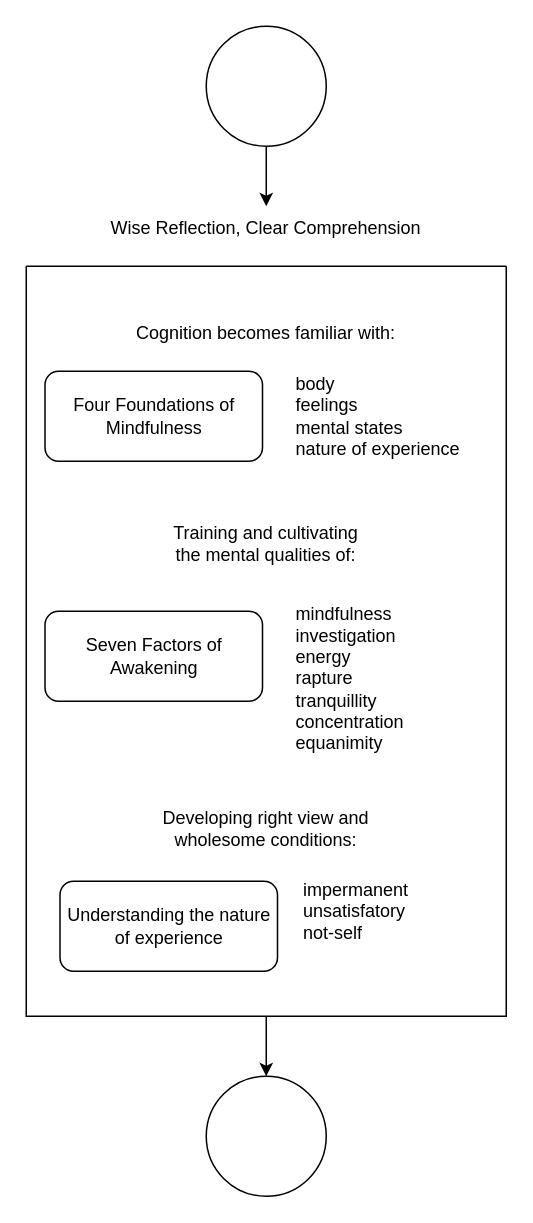
The diagram is 533 pixels wide and 1223 high, and some of its shapes have lost their labels. Here are the shapes that lost their labels. From the top down, the centre of each, then its label:
the point at 265,85: Watching the breath
the point at 265,1135: Clarity Calm Insight
